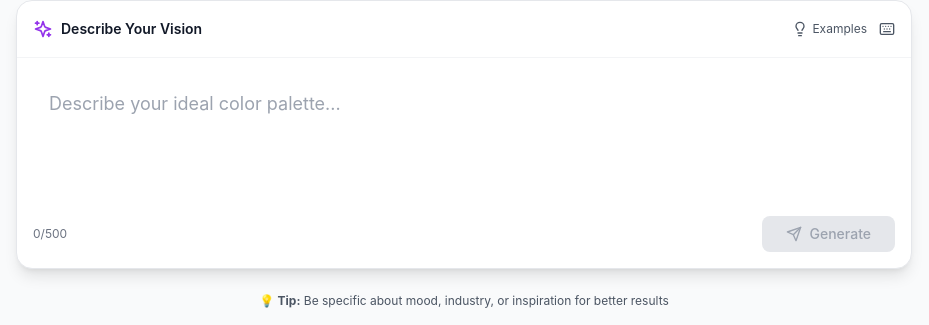
Test: PromptInput › Input Validation › should update character count as user types
In the text box with placeholder "Describe your ideal color palette...": (464, 134) [33, 74, 895, 194], type "Hello world"
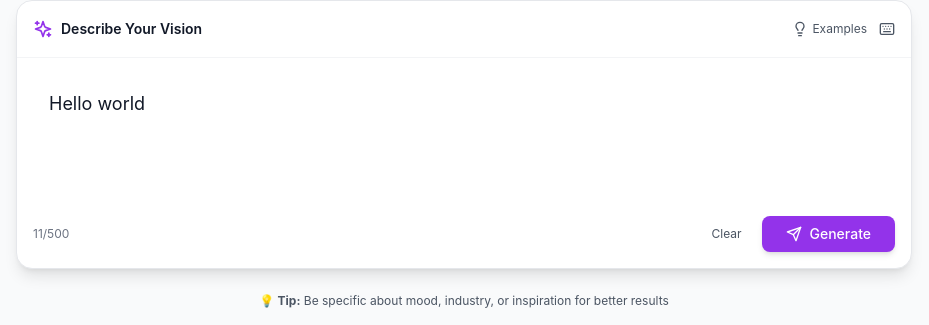
Expected: the text "11/500" is shown, [33, 226, 69, 242]
